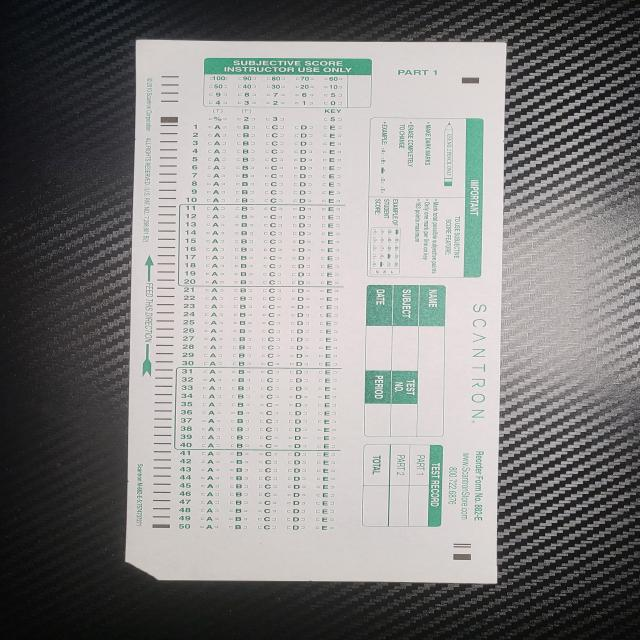scantron: (126, 41, 508, 584)
